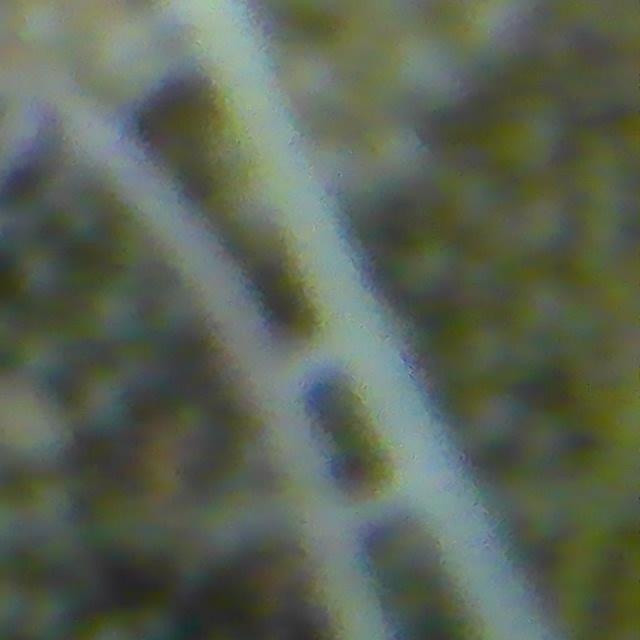SeaGrape: (383, 26, 473, 112), (0, 391, 72, 469), (10, 0, 77, 54)
